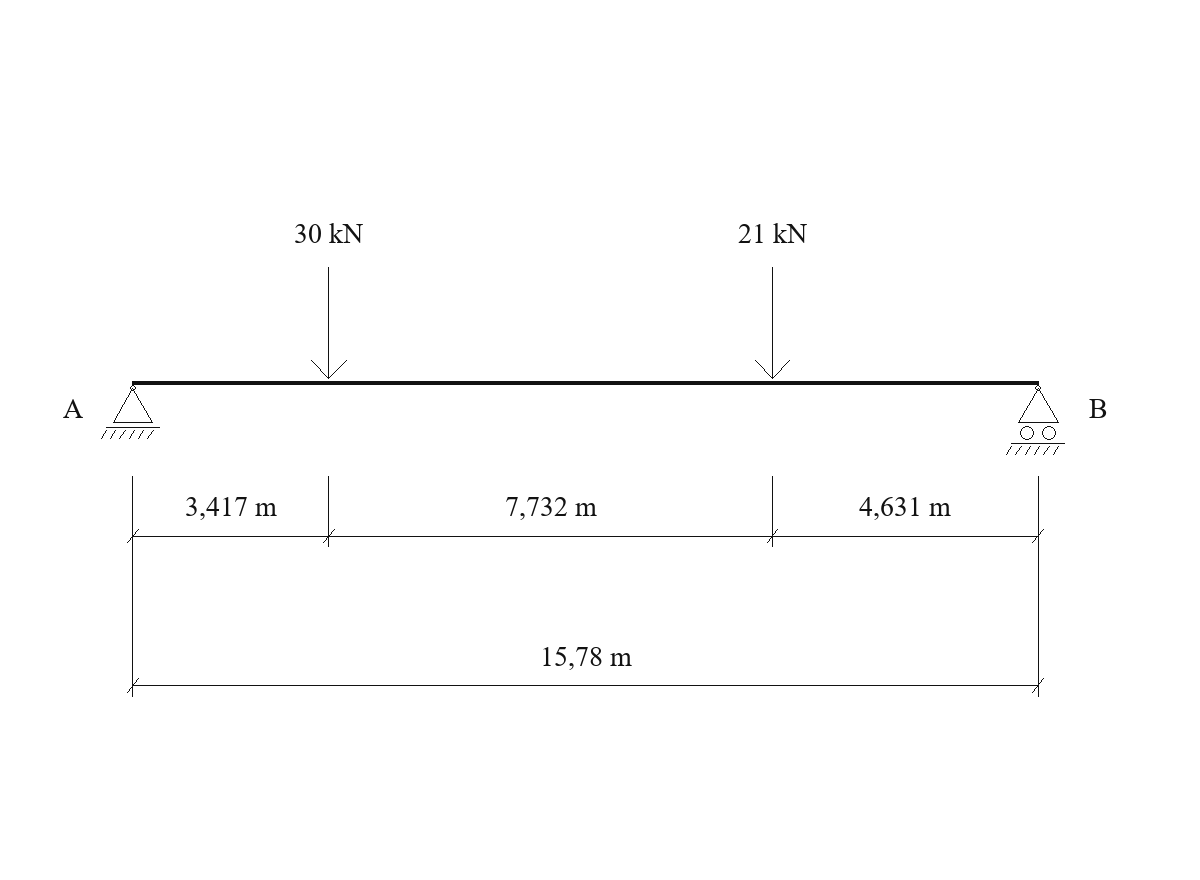pin_support: (101, 385, 160, 439)
point_load: (311, 267, 347, 379), (755, 267, 790, 379)
roller_support: (1006, 385, 1065, 455)
